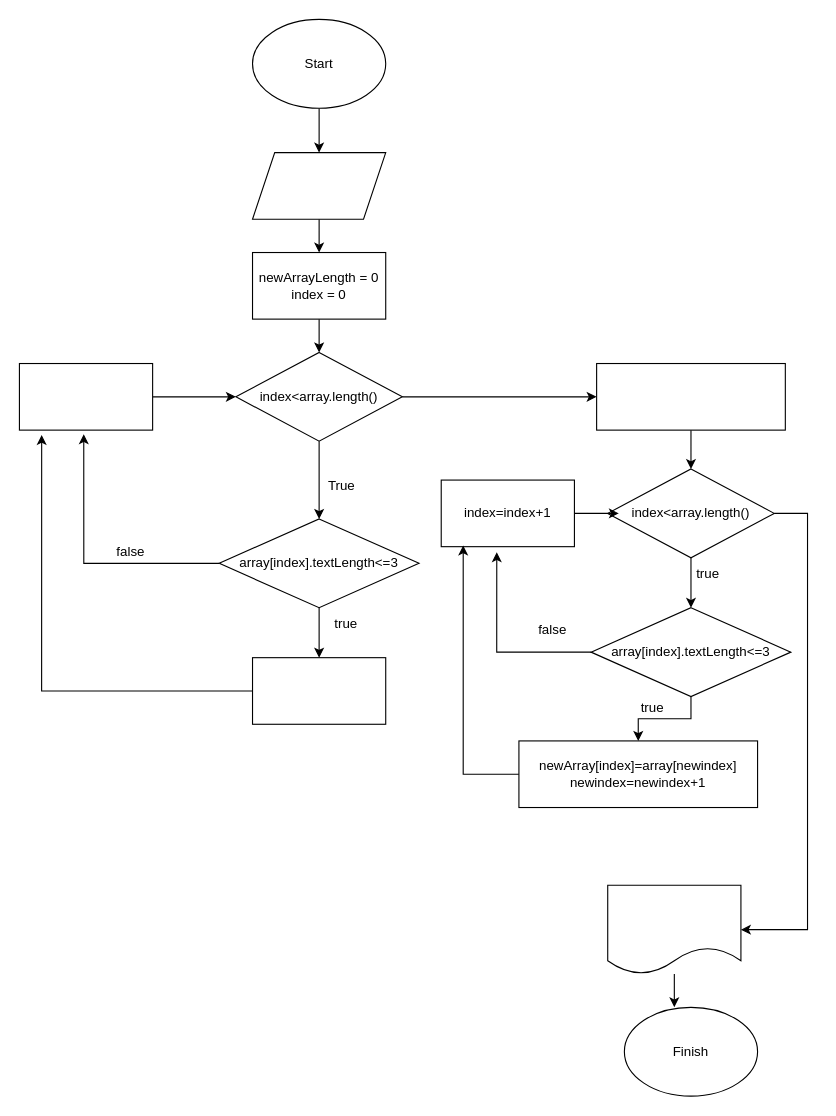
Some shapes in this 836 by 1116 pixel diagram are drawn without their labels. Each missing label, with the box of its shape:
Array = [Hello, 2, world.]: (251, 152, 386, 219)
index = index+1: (18, 362, 153, 430)
newArray = [newArrayLength] index = 0 newindex = 0: (596, 362, 785, 430)
newarrayLength = newarrayLength + 1: (251, 657, 386, 724)
print newArray: (607, 884, 741, 974)
